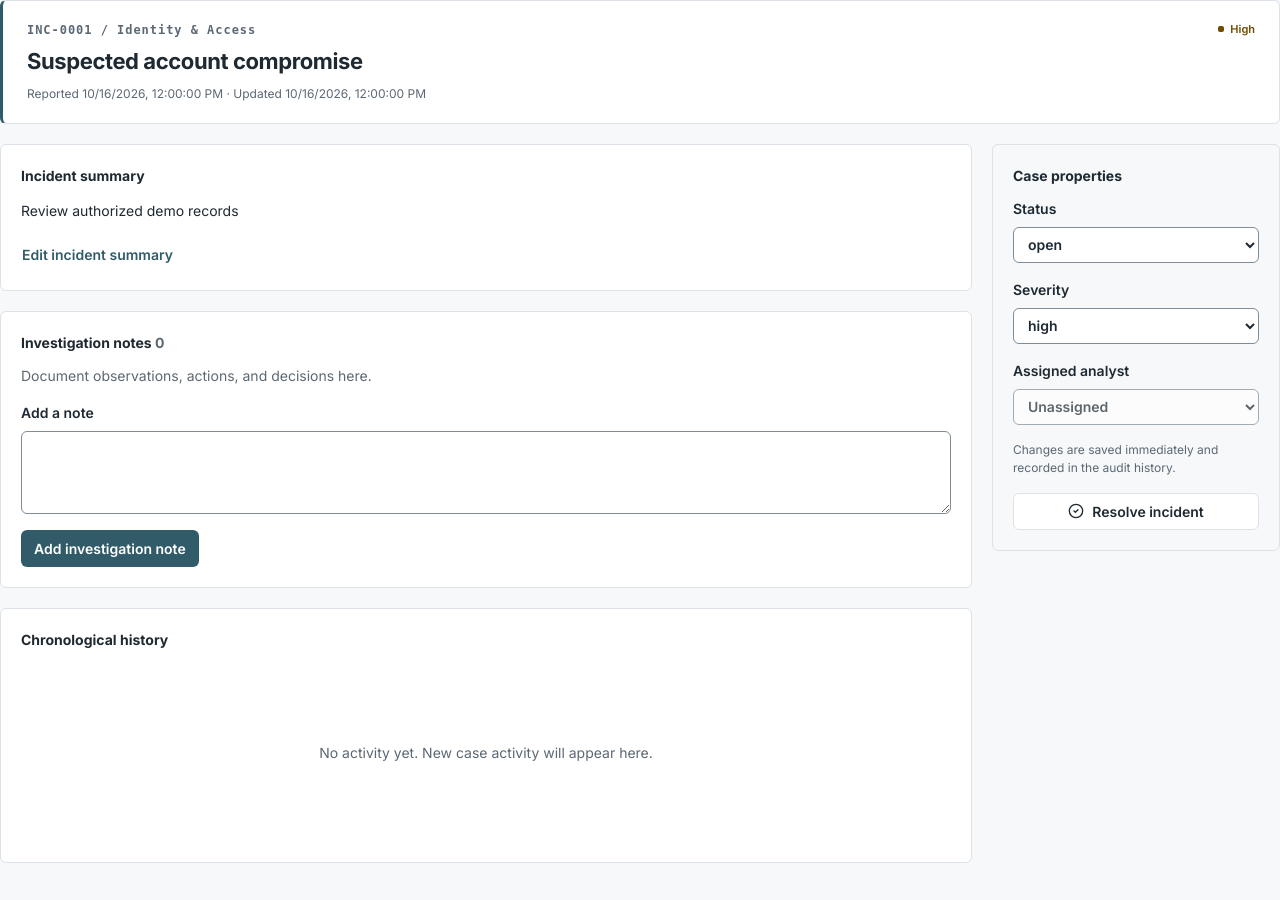
Test case: preserves summary drafts after a rejected mutation
expect the heading "Suspected account compromise" is shown: met, box [27, 48, 363, 74]
Click the button "Edit incident summary".
click(98, 254)  # box [21, 239, 174, 270]
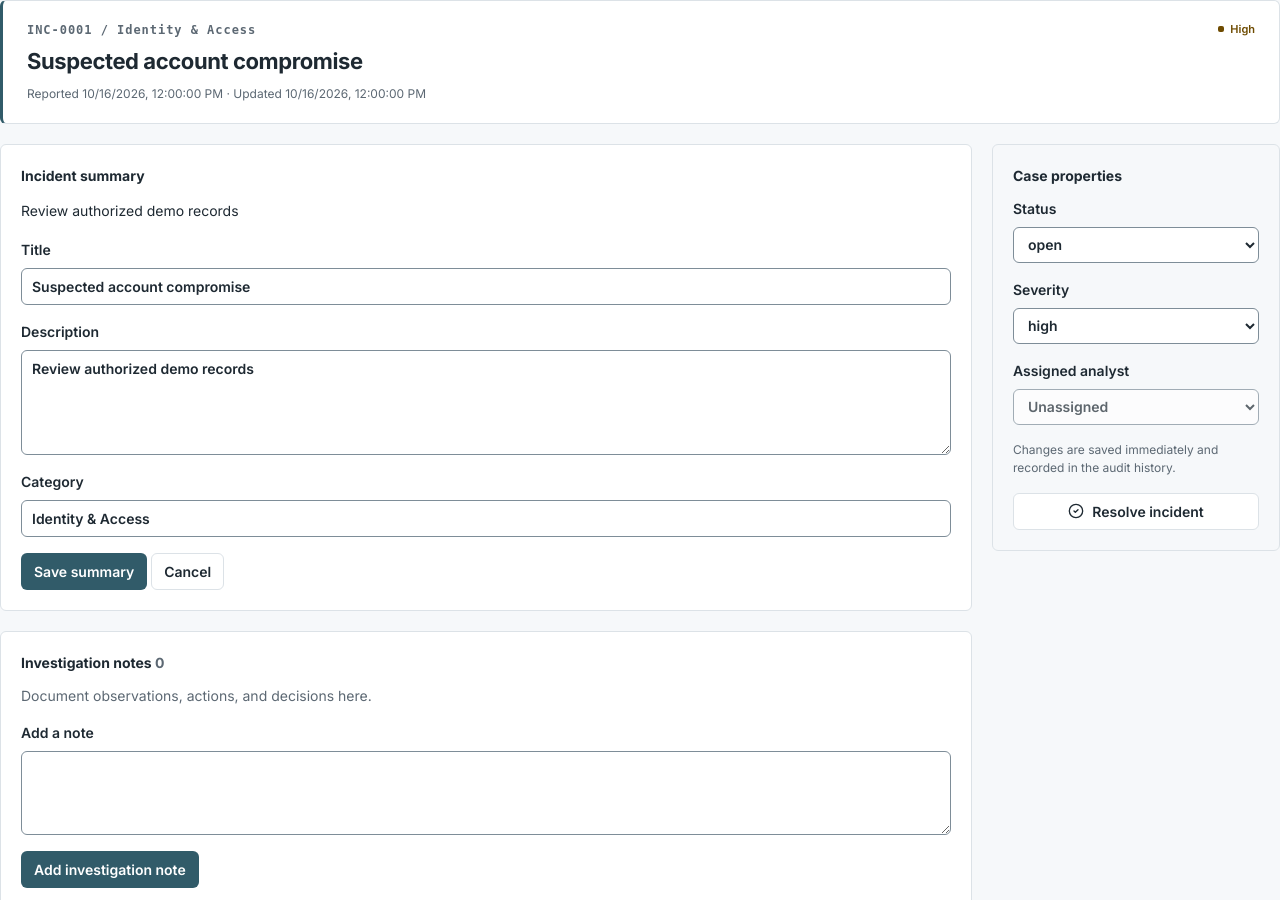
Replace the text in the field labelled "Title" with "Unsaved investigation draft" at point(486, 286), box [21, 268, 951, 305]
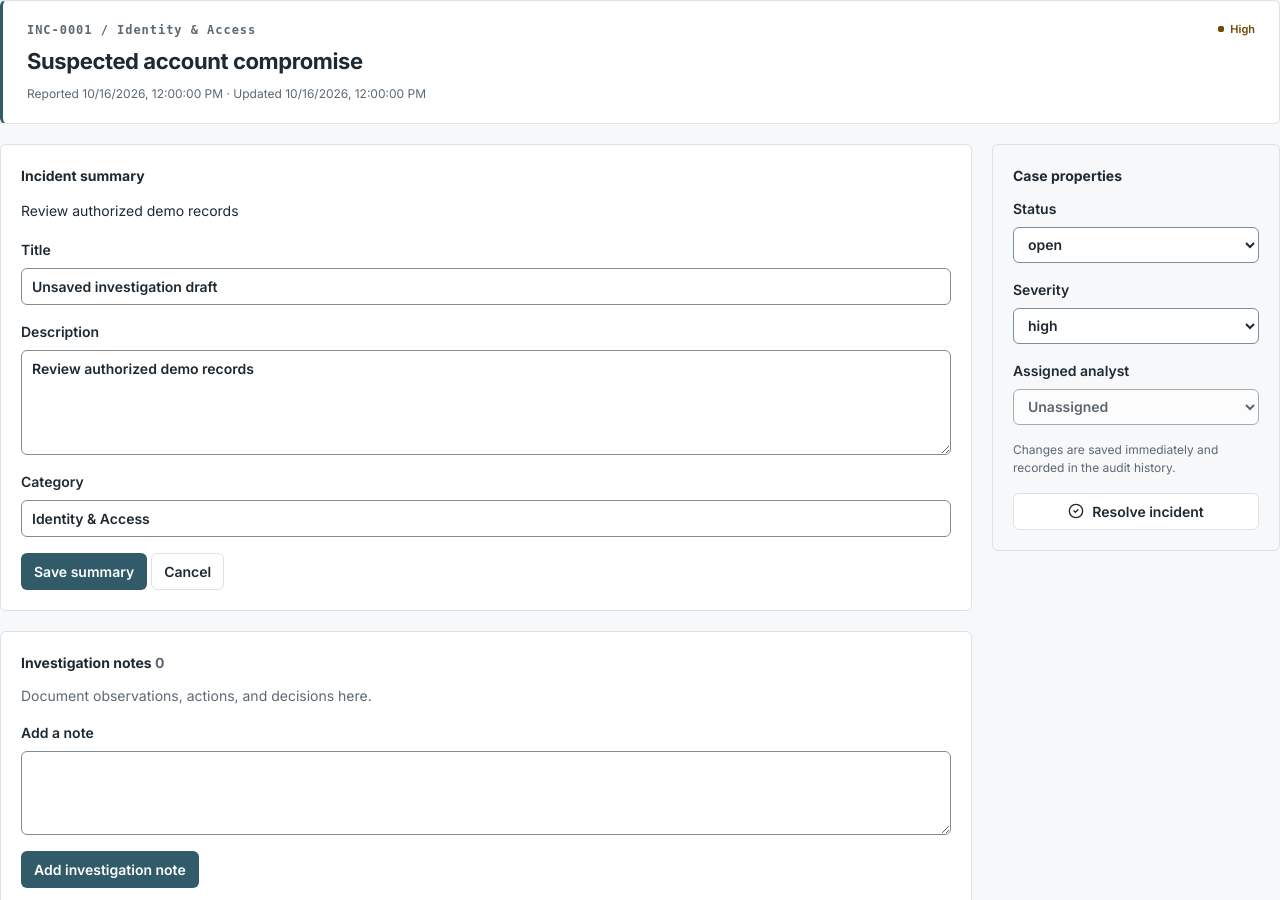
Click the button "Save summary".
click(84, 572)  # box [21, 553, 147, 590]
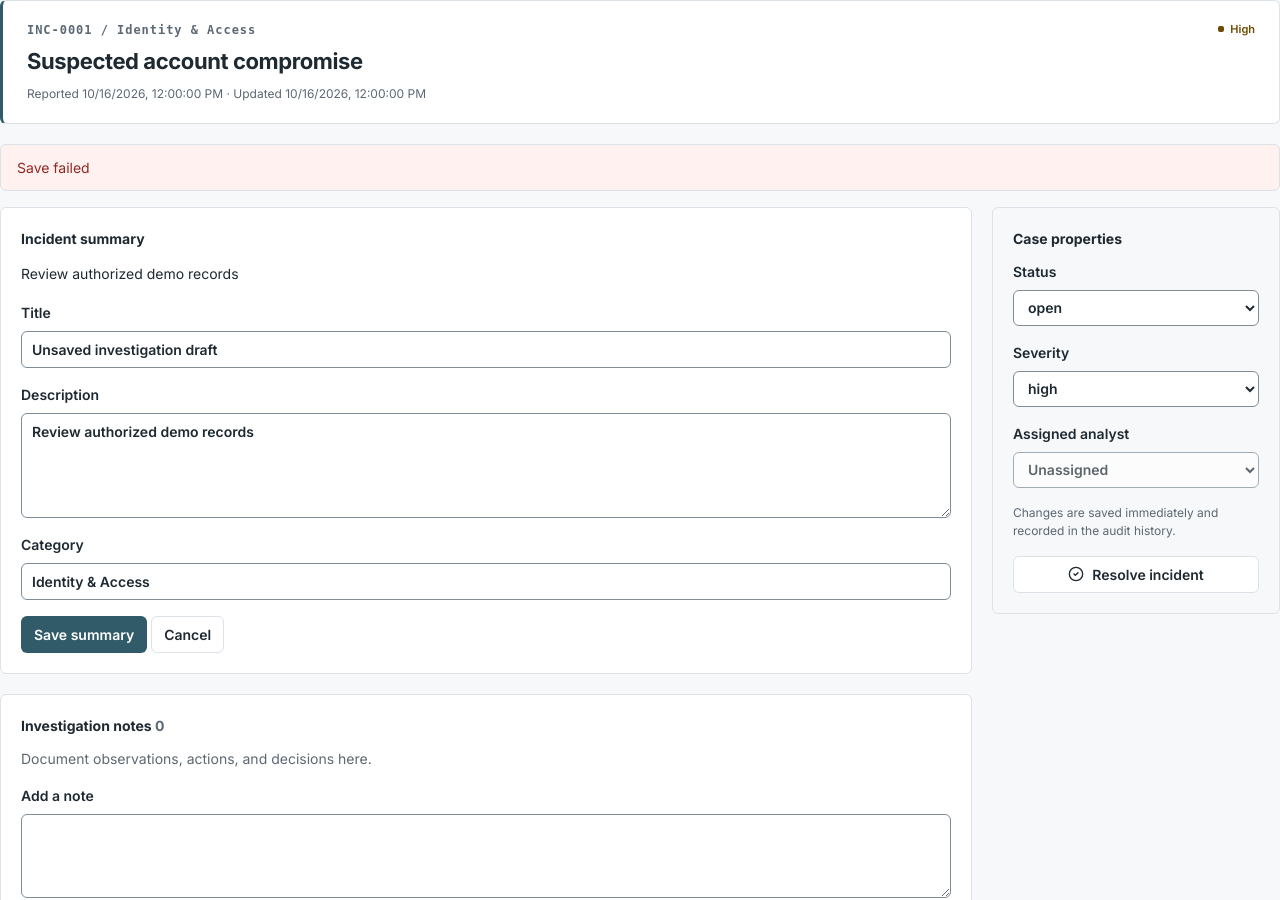
expect the button "Save summary" is enabled: met, box [21, 616, 147, 653]
expect the message reads "Save failed": met, box [17, 159, 90, 176]
